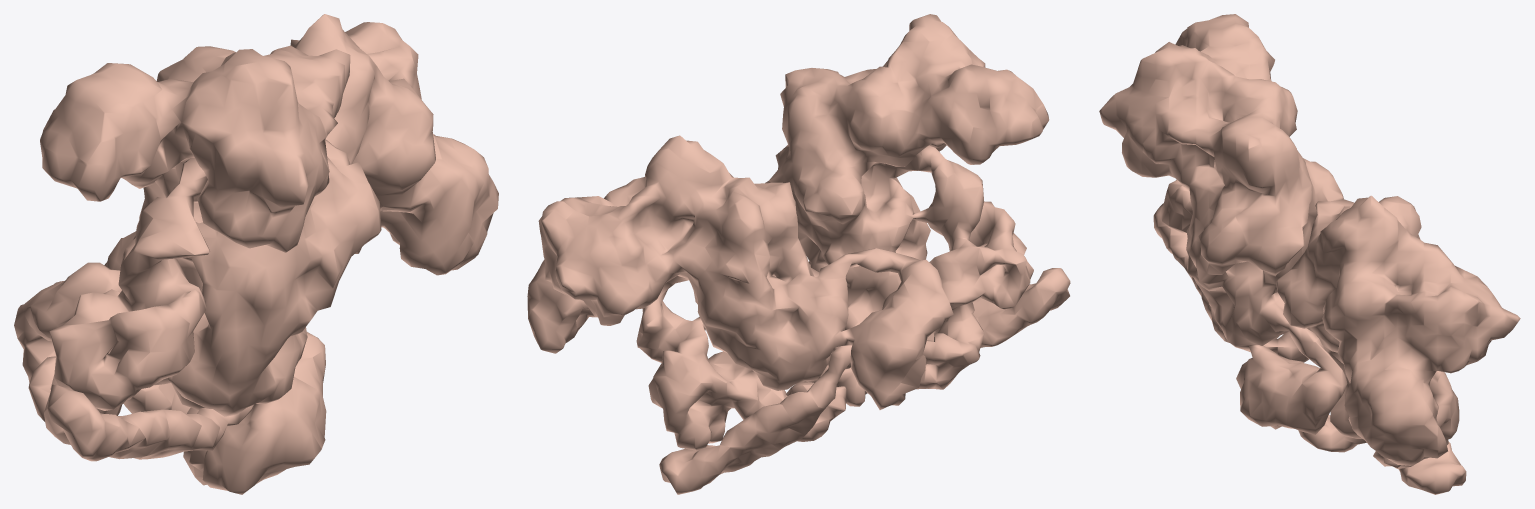
The model's file is phenylalanyltRNAs_1_0.dae.
3 views of the same model, side by side, from view 1: azimuth 30°, elevation 25°; view 2: azimuth 150°, elevation 25°; view 3: azimuth 270°, elevation 25° (orthographic). The views are drawn at different scales.
Parts seen in each view (by area): view 1: CoarseMS_1eiy.1; view 2: CoarseMS_1eiy.1; view 3: CoarseMS_1eiy.1.
Boxes of the visible parts, left/top/right/bottom form: CoarseMS_1eiy.1: left=14, top=14, right=498, bottom=494; CoarseMS_1eiy.1: left=527, top=14, right=1070, bottom=494; CoarseMS_1eiy.1: left=1099, top=14, right=1520, bottom=494.
Size of the model in its own units: 154 by 137 by 134.
